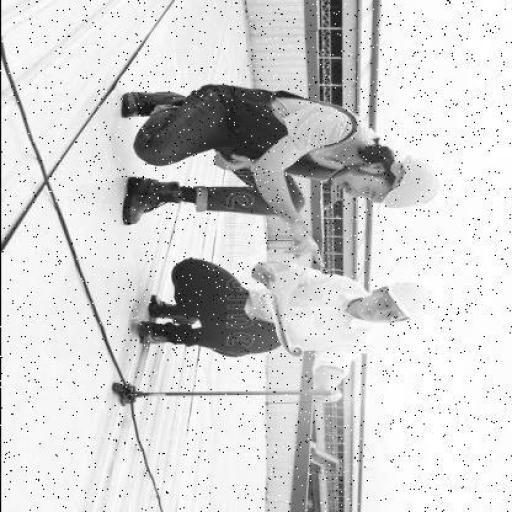person: (89, 56, 461, 248), (108, 247, 440, 404)
safety_shoe: (117, 174, 181, 228), (121, 87, 187, 122), (148, 304, 203, 320), (134, 324, 172, 346)
